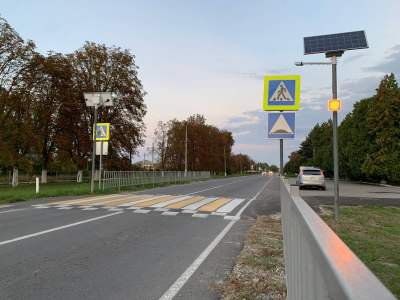crosswalk: (269, 80, 294, 106), (94, 125, 107, 139)
